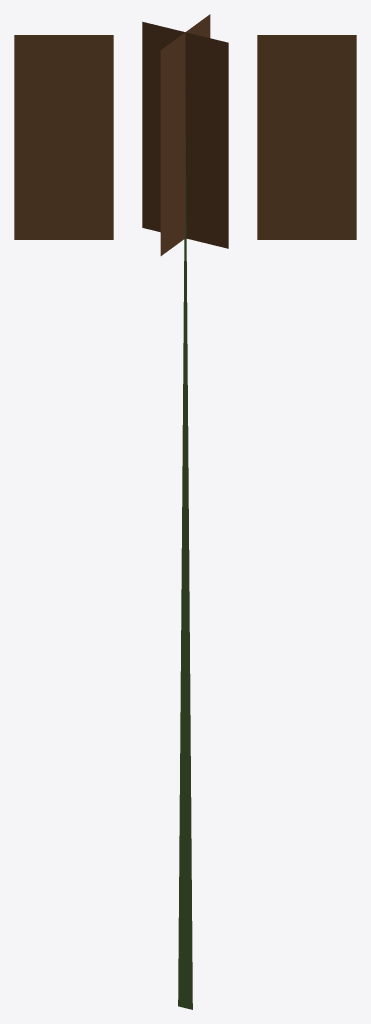
The model's file is cattails_lod2.glb.
3 views of the same model, side by side, from view 1: azimuth 90°, elevation 25°; view 2: azimuth 150°, elevation 25°; view 3: azimuth 270°, elevation 25° (orthographic).
Parts seen in each view (by area): view 1: cattails_lod2; view 2: cattails_lod2; view 3: cattails_lod2.
Boxes of the visible parts, <box> form: cattails_lod2: <box>14,35,113,239</box>; cattails_lod2: <box>142,14,228,1009</box>; cattails_lod2: <box>257,35,356,239</box>.
Bounding box in the file's own units: 0.14 × 1.51 × 0.14.
